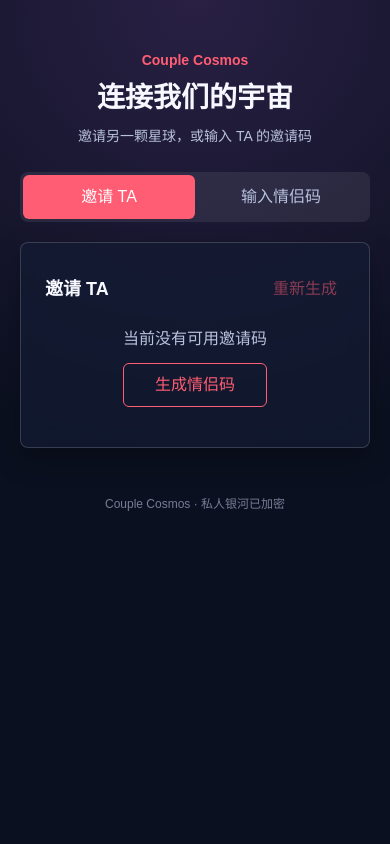
Test case: 情侣绑定页面 › 没有邀请码时显示空状态，生成失败后可重试生成
Check: the element with test id "code-state-empty" is shown, box [123, 330, 267, 407]
Click the button with test id "generate-code" at coordinates (195, 385), box [123, 363, 267, 407]
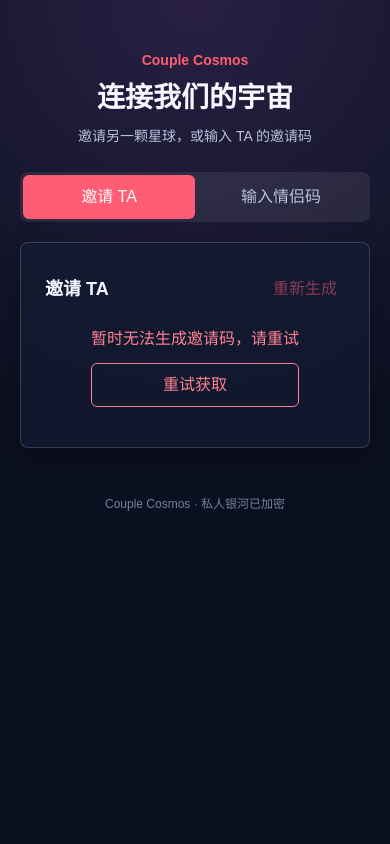
Check: the element with test id "code-state-error" is shown, box [91, 330, 299, 407]
Click the button with test id "retry-code" at coordinates (195, 385), box [91, 363, 299, 407]
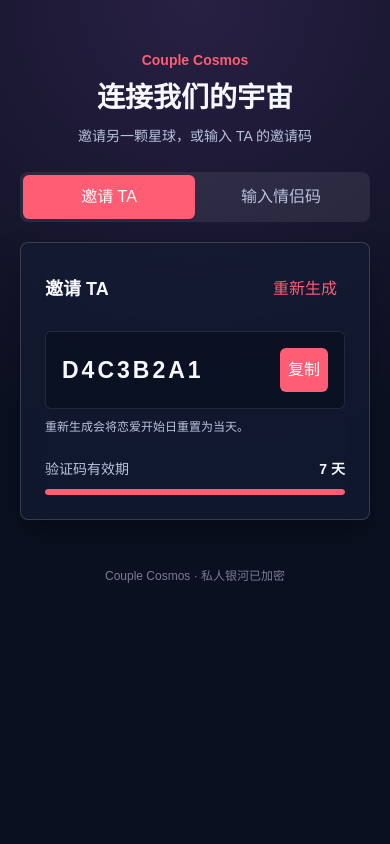
Check: the text with test id "invite-code" reads "D4C3B2A1", box [62, 357, 204, 383]
